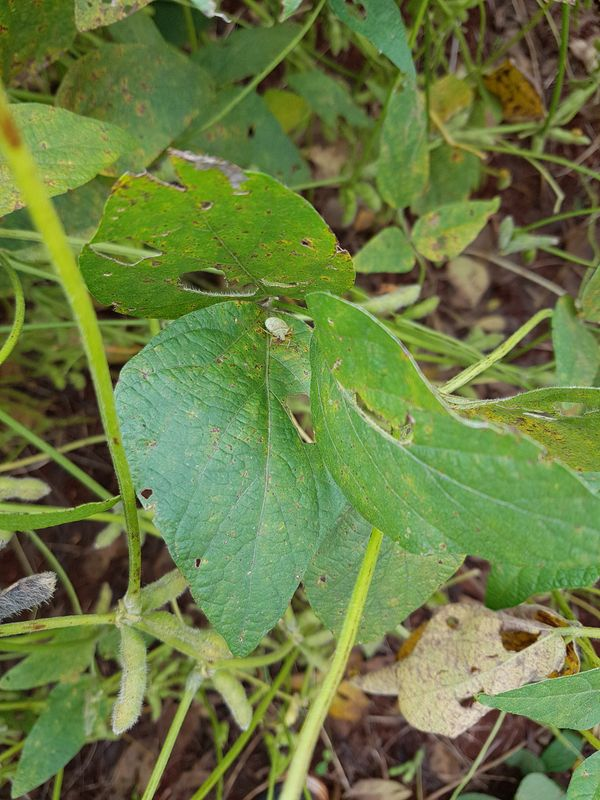Euschistus_heros_ninfa: (251, 307, 303, 351)
